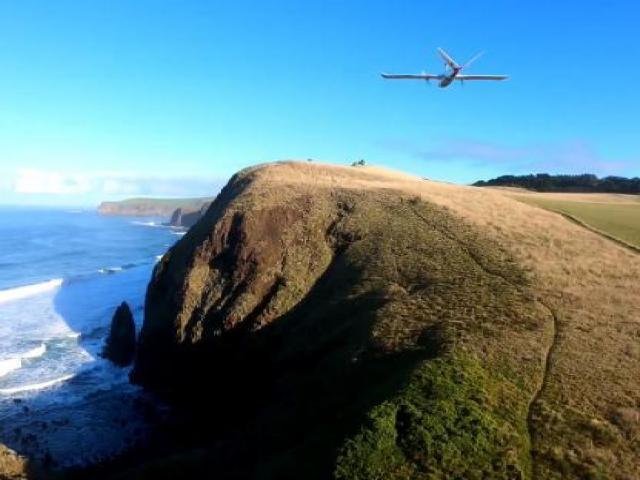uav: (382, 52, 512, 90)
